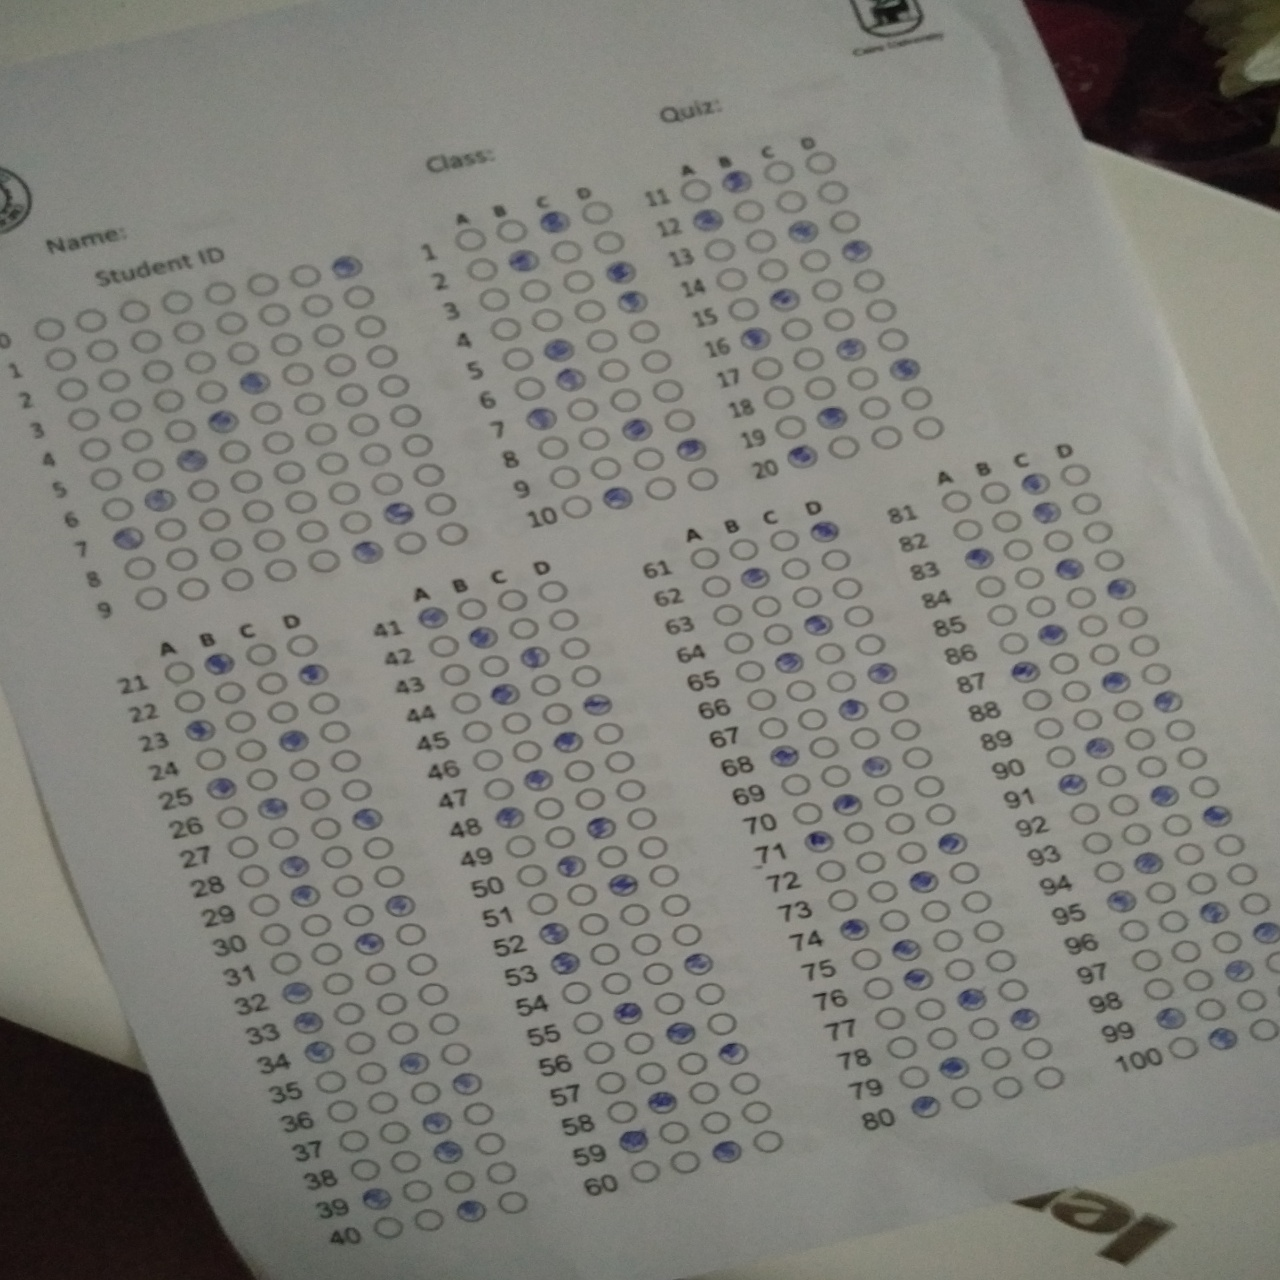not-c: (1068, 489, 1105, 519), (526, 670, 565, 700), (474, 652, 513, 680), (245, 271, 282, 300), (170, 318, 207, 347), (95, 366, 132, 395), (225, 339, 263, 368), (369, 470, 407, 499), (358, 441, 395, 470), (282, 489, 320, 518), (163, 545, 200, 574), (284, 632, 321, 661), (318, 843, 355, 872), (570, 1009, 607, 1039), (636, 960, 674, 989), (673, 1050, 710, 1080), (613, 776, 651, 805), (577, 425, 614, 455), (815, 178, 852, 207), (708, 600, 745, 629), (788, 583, 825, 612), (754, 714, 791, 743), (812, 856, 850, 885), (864, 878, 901, 907), (924, 1024, 961, 1054), (965, 1015, 1002, 1044), (374, 373, 413, 401), (234, 737, 273, 765), (339, 776, 377, 804), (482, 1159, 520, 1187), (802, 149, 840, 177), (908, 415, 947, 443), (687, 544, 726, 572), (880, 810, 919, 838), (181, 348, 217, 377), (132, 584, 169, 613), (213, 803, 250, 832), (234, 862, 271, 891), (246, 891, 282, 920), (331, 999, 367, 1028), (437, 1039, 474, 1068), (493, 216, 530, 245), (452, 225, 489, 254), (729, 196, 765, 225), (743, 685, 779, 714), (921, 799, 958, 829), (860, 974, 897, 1003), (983, 947, 1020, 976), (948, 1083, 985, 1112), (988, 508, 1024, 537), (73, 307, 110, 335), (116, 298, 154, 326), (157, 290, 195, 318), (200, 281, 238, 309), (287, 263, 325, 291), (300, 292, 338, 320), (257, 300, 294, 328), (127, 327, 164, 355), (53, 376, 90, 404), (352, 312, 389, 340), (278, 360, 315, 388), (151, 388, 189, 416), (107, 396, 144, 424), (64, 406, 102, 434), (75, 436, 113, 464), (291, 390, 328, 418), (334, 381, 372, 409), (386, 401, 423, 429), (345, 411, 382, 440), (302, 421, 340, 449), (216, 438, 253, 467), (128, 456, 165, 484), (184, 476, 222, 504), (312, 450, 349, 478), (325, 478, 362, 506), (239, 498, 277, 526), (121, 554, 158, 583), (251, 527, 288, 556), (434, 520, 471, 549), (305, 547, 342, 576), (263, 554, 300, 583), (173, 576, 211, 604), (159, 658, 197, 686), (170, 688, 207, 716), (224, 835, 261, 863), (265, 825, 302, 853), (244, 765, 281, 794), (222, 708, 259, 736), (243, 641, 280, 669), (264, 699, 301, 727), (306, 689, 343, 717), (327, 747, 365, 775), (286, 757, 324, 785), (360, 833, 397, 862), (256, 921, 293, 949), (299, 913, 336, 941), (392, 920, 429, 948), (319, 969, 356, 998), (415, 981, 452, 1009), (374, 990, 411, 1019), (384, 1017, 422, 1046), (425, 1010, 463, 1039), (352, 1058, 389, 1087), (312, 1068, 349, 1096), (408, 1080, 445, 1108), (459, 1098, 497, 1126), (346, 1157, 383, 1185), (387, 1148, 424, 1176), (441, 1167, 478, 1196), (411, 1207, 449, 1235), (370, 1213, 408, 1241), (666, 1149, 703, 1177), (602, 1098, 640, 1126), (620, 1030, 658, 1058), (631, 1060, 668, 1088), (685, 1080, 722, 1108), (727, 1070, 764, 1098), (749, 1128, 787, 1156), (585, 939, 622, 967), (576, 912, 613, 940), (523, 890, 560, 918), (646, 862, 683, 890), (622, 804, 660, 832), (572, 785, 610, 813), (530, 794, 567, 822), (542, 824, 579, 852), (503, 833, 540, 862), (588, 720, 626, 748), (558, 634, 595, 662), (533, 578, 571, 606), (493, 587, 531, 615), (467, 748, 504, 776), (448, 690, 485, 719), (436, 660, 474, 688), (427, 633, 464, 661), (452, 595, 490, 624), (536, 434, 573, 462), (563, 395, 600, 423), (511, 375, 549, 403), (636, 348, 674, 376), (626, 319, 663, 347), (585, 327, 622, 355), (570, 297, 607, 325), (517, 277, 554, 305), (475, 285, 512, 313), (463, 257, 501, 285), (590, 230, 627, 258), (579, 199, 617, 227), (761, 158, 798, 186), (772, 188, 810, 216), (797, 246, 835, 274), (755, 256, 792, 284), (713, 265, 750, 293), (809, 275, 846, 304), (850, 268, 887, 297), (863, 297, 900, 325), (748, 354, 785, 382), (790, 345, 828, 373), (802, 374, 839, 402), (855, 393, 892, 421), (824, 434, 862, 462), (726, 536, 763, 564), (816, 547, 853, 576), (697, 572, 735, 600), (748, 592, 785, 620), (830, 574, 867, 602), (760, 621, 797, 649), (851, 631, 888, 659), (822, 667, 859, 695), (782, 676, 819, 704), (794, 706, 831, 734), (876, 688, 913, 716), (816, 762, 853, 790), (870, 782, 907, 810), (789, 799, 826, 828), (840, 818, 878, 846), (851, 847, 888, 876), (915, 898, 953, 926), (877, 908, 914, 937), (847, 946, 885, 974), (930, 927, 967, 955), (911, 995, 948, 1023), (881, 1034, 919, 1062), (1019, 1035, 1056, 1063), (978, 1046, 1015, 1074), (894, 1064, 932, 1092), (988, 1074, 1026, 1102), (937, 488, 974, 516), (564, 881, 602, 908), (486, 316, 525, 343), (30, 315, 67, 343), (215, 309, 251, 338), (84, 336, 121, 365), (43, 346, 80, 374), (139, 359, 176, 387), (266, 331, 302, 359), (365, 342, 401, 370), (321, 350, 358, 379), (193, 377, 230, 406), (118, 425, 155, 454), (409, 461, 445, 489), (423, 491, 459, 519), (260, 428, 297, 456), (98, 496, 135, 524), (226, 468, 263, 496), (154, 516, 190, 544), (207, 536, 244, 564), (294, 518, 331, 546), (338, 508, 374, 536), (392, 529, 428, 557), (219, 566, 256, 594), (192, 744, 229, 772), (213, 680, 250, 708), (308, 815, 345, 843), (331, 872, 367, 900), (370, 863, 407, 891), (308, 940, 345, 968), (266, 949, 302, 978), (362, 960, 399, 988), (404, 951, 441, 979), (341, 1029, 377, 1057), (324, 1097, 360, 1125), (365, 1089, 401, 1117), (375, 1118, 411, 1146), (335, 1126, 372, 1155), (471, 1130, 508, 1158), (399, 1177, 435, 1205), (627, 1158, 663, 1186), (655, 1119, 692, 1148), (593, 1069, 629, 1097), (580, 1039, 617, 1067), (692, 981, 728, 1009), (737, 1098, 774, 1126), (697, 1109, 734, 1137), (627, 931, 663, 959), (658, 891, 694, 919), (668, 921, 704, 949), (515, 862, 551, 890), (594, 843, 631, 871), (601, 749, 638, 777), (568, 663, 605, 692), (546, 606, 583, 634), (505, 614, 542, 642), (539, 699, 576, 727), (498, 709, 535, 737), (459, 717, 496, 745), (560, 757, 597, 785), (481, 775, 517, 803), (559, 493, 595, 522), (546, 464, 583, 492), (587, 452, 624, 481), (629, 445, 666, 474), (642, 475, 679, 503), (685, 465, 721, 493), (662, 408, 699, 436), (651, 377, 687, 406), (608, 387, 645, 415), (501, 345, 537, 373), (527, 307, 564, 335), (559, 268, 595, 297), (549, 239, 585, 267), (678, 177, 714, 205), (743, 226, 779, 254), (702, 234, 738, 263), (726, 295, 762, 324), (821, 306, 857, 334), (778, 315, 815, 343), (874, 326, 911, 354), (771, 414, 808, 442), (867, 424, 904, 452), (765, 527, 802, 556), (777, 554, 813, 583), (719, 629, 755, 658), (812, 640, 849, 668), (887, 715, 924, 743), (805, 734, 842, 762), (777, 771, 813, 799), (894, 839, 931, 867), (948, 859, 985, 887), (969, 918, 1006, 946), (941, 956, 978, 985), (872, 1005, 908, 1033), (1032, 1064, 1068, 1092), (1057, 461, 1094, 489), (948, 517, 985, 545), (309, 324, 347, 350), (162, 418, 199, 445), (399, 433, 436, 459), (88, 467, 125, 493), (268, 459, 306, 486), (197, 508, 234, 535), (298, 787, 335, 813), (339, 903, 376, 930), (493, 1189, 531, 1216), (558, 980, 595, 1007), (597, 971, 634, 998), (651, 990, 688, 1017), (633, 835, 670, 862), (508, 738, 545, 765), (899, 384, 937, 411), (899, 745, 937, 772), (910, 772, 947, 799), (958, 888, 995, 915), (994, 978, 1032, 1005), (996, 629, 1032, 658), (341, 282, 377, 309), (248, 399, 285, 425), (254, 670, 291, 697), (316, 719, 353, 745), (703, 1012, 740, 1039), (617, 903, 653, 930), (595, 358, 632, 384), (825, 207, 862, 234), (845, 365, 881, 392), (760, 384, 796, 411), (840, 602, 877, 629), (731, 658, 768, 685), (845, 726, 881, 753), (825, 888, 862, 915), (978, 481, 1014, 508), (1110, 697, 1144, 726), (1000, 537, 1035, 564), (1041, 527, 1076, 554), (1012, 565, 1047, 592), (983, 602, 1019, 629), (1115, 604, 1150, 631), (1046, 651, 1081, 678), (1087, 641, 1122, 668), (1030, 716, 1065, 743), (1121, 726, 1156, 753), (1159, 812, 1194, 839), (1212, 832, 1247, 859), (1143, 879, 1178, 906), (1184, 871, 1219, 898), (1237, 890, 1272, 917), (1116, 918, 1151, 945), (1169, 939, 1204, 966), (1193, 995, 1228, 1022), (1233, 987, 1268, 1014), (1092, 547, 1126, 574), (974, 573, 1008, 600), (1076, 612, 1110, 639), (1126, 632, 1160, 659), (1020, 688, 1054, 715), (1163, 717, 1197, 744), (1043, 744, 1077, 771), (1175, 745, 1208, 772), (1189, 774, 1223, 801), (1107, 794, 1141, 821), (1068, 801, 1102, 828), (1080, 829, 1114, 856), (1119, 821, 1153, 847), (1173, 840, 1207, 867), (1224, 862, 1258, 888), (1156, 908, 1190, 935), (1130, 947, 1164, 974), (1141, 976, 1175, 1003), (1182, 968, 1216, 995), (1166, 1034, 1200, 1061), (1062, 584, 1097, 610), (1139, 661, 1175, 687), (1091, 859, 1126, 885), (1071, 707, 1104, 734), (1135, 753, 1167, 779), (1247, 1017, 1280, 1044), (1023, 593, 1057, 619), (1058, 679, 1092, 704), (1095, 763, 1129, 789), (1081, 519, 1114, 545), (1211, 930, 1244, 955)
taken-c: (522, 406, 561, 433), (1051, 554, 1089, 583), (203, 410, 241, 437), (202, 776, 240, 803), (350, 931, 389, 958), (277, 979, 315, 1006), (359, 1186, 397, 1213), (452, 1197, 491, 1224), (610, 1001, 648, 1028), (679, 951, 717, 978), (578, 692, 617, 719), (486, 681, 525, 708), (516, 644, 554, 670), (537, 210, 576, 237), (837, 239, 876, 266), (783, 443, 822, 470), (799, 611, 838, 638), (863, 659, 901, 686), (1204, 1026, 1242, 1053), (1194, 899, 1233, 926), (1082, 735, 1121, 762), (1033, 622, 1071, 649), (1017, 470, 1056, 497), (139, 486, 177, 513), (109, 526, 147, 553), (381, 501, 418, 527), (199, 651, 237, 678), (181, 717, 218, 744), (273, 727, 311, 754), (286, 881, 324, 908), (381, 892, 418, 919), (395, 1049, 433, 1076), (418, 1110, 456, 1137), (708, 1139, 745, 1166), (646, 1089, 683, 1116), (716, 1039, 754, 1065), (536, 920, 573, 947), (605, 872, 642, 899), (491, 805, 529, 832), (519, 768, 557, 795), (549, 728, 586, 755), (415, 605, 452, 632), (599, 485, 636, 512), (673, 438, 710, 465), (619, 417, 656, 444), (552, 366, 590, 393), (602, 260, 640, 287), (505, 248, 543, 275), (688, 207, 726, 234), (886, 356, 924, 383), (813, 406, 851, 433), (835, 696, 872, 723), (858, 753, 896, 779), (830, 791, 867, 818), (799, 828, 837, 855), (935, 829, 973, 856), (837, 915, 874, 942), (900, 966, 938, 993), (953, 987, 990, 1014), (937, 1055, 974, 1082), (905, 1094, 942, 1121), (1151, 1005, 1189, 1032), (1102, 887, 1139, 914), (1151, 688, 1189, 715), (1007, 659, 1044, 686), (1103, 577, 1141, 604), (1029, 501, 1067, 527), (236, 372, 274, 397), (765, 287, 804, 313), (1006, 1007, 1044, 1033), (960, 546, 999, 572), (329, 253, 366, 280), (172, 448, 209, 475), (349, 540, 386, 567), (254, 796, 291, 823), (350, 805, 387, 832), (275, 855, 312, 881), (288, 1009, 325, 1036), (301, 1039, 338, 1065), (450, 1071, 486, 1098), (431, 1139, 468, 1166), (662, 1019, 699, 1046), (546, 951, 583, 978), (554, 853, 591, 880), (465, 624, 502, 651), (540, 338, 577, 365), (737, 564, 774, 591), (906, 869, 942, 896), (1221, 958, 1258, 985), (1146, 783, 1183, 810), (295, 662, 333, 688), (614, 1129, 652, 1155), (583, 816, 620, 842), (613, 290, 651, 315), (719, 170, 756, 196), (806, 519, 844, 545), (765, 743, 803, 769), (1130, 850, 1167, 876), (1199, 804, 1237, 830), (1054, 772, 1091, 798), (737, 326, 772, 353), (772, 649, 808, 676), (784, 219, 821, 245), (832, 338, 869, 363), (888, 937, 925, 962), (1098, 670, 1135, 696), (1250, 920, 1280, 946)
